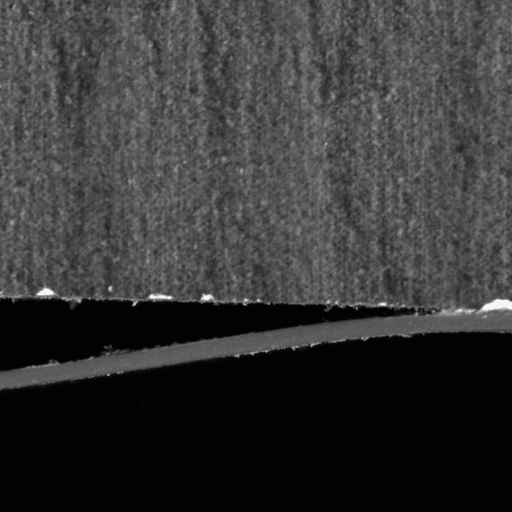kaijiao: (0, 291, 511, 394)
